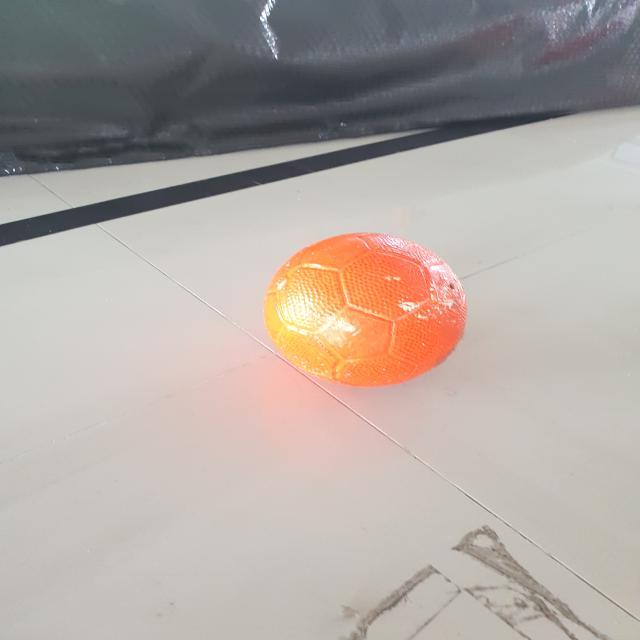bola: (260, 225, 475, 396)
